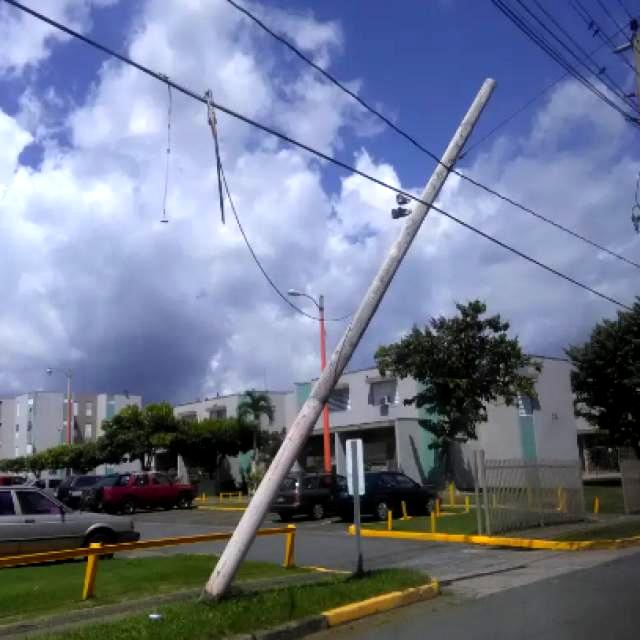Broken Pole: (201, 75, 498, 598)
